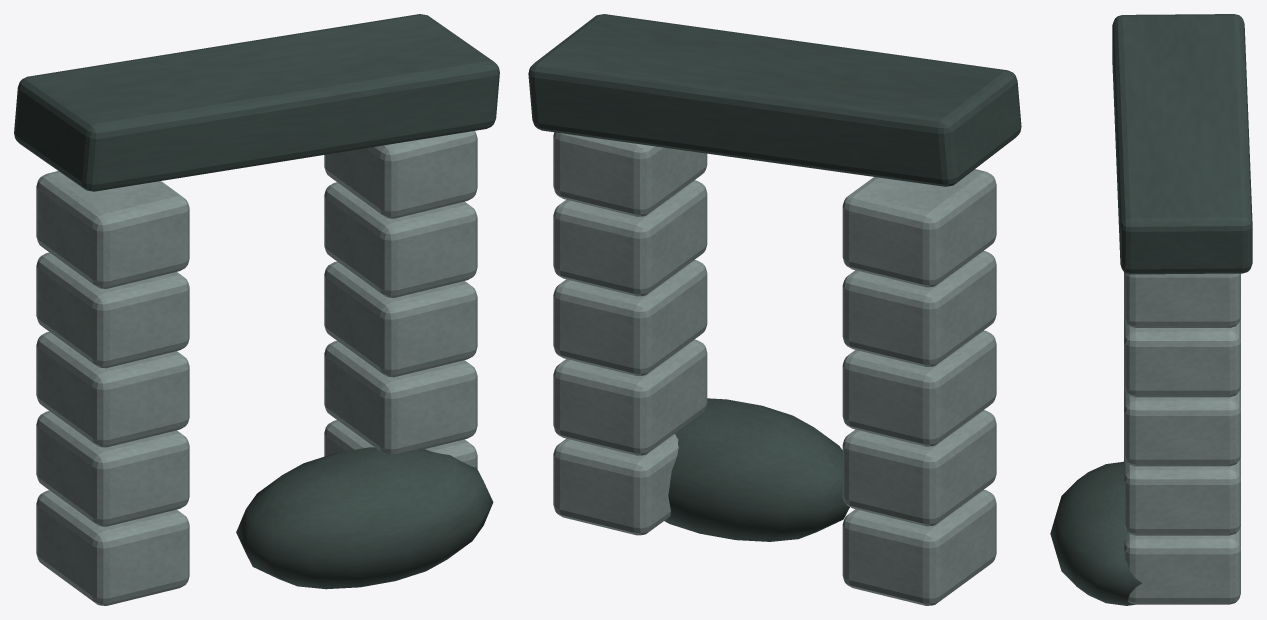
Rendered from SM_ruin.fbx.
3 renders of one model, left to right at view 1: azimuth 30°, elevation 25°; view 2: azimuth 150°, elevation 25°; view 3: azimuth 270°, elevation 25°, orthographic. The views are drawn at different scales.
Parts seen in each view (by area): view 1: SM_ruin; view 2: SM_ruin; view 3: SM_ruin.
Part boxes in pixels (x1,y1,x2,y2): SM_ruin: [14, 14, 499, 605]; SM_ruin: [528, 14, 1021, 605]; SM_ruin: [1050, 14, 1252, 605].
Size of the model in its own units: 1.68 by 0.7958 by 1.97.
